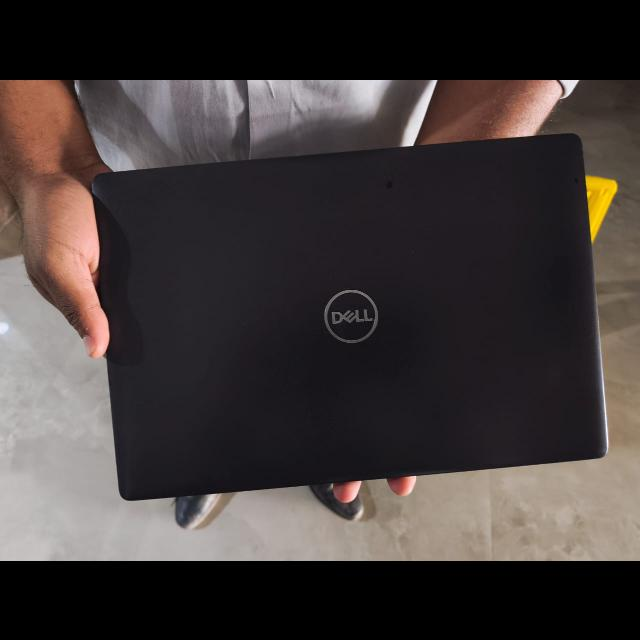laptop: (80, 122, 606, 510)
